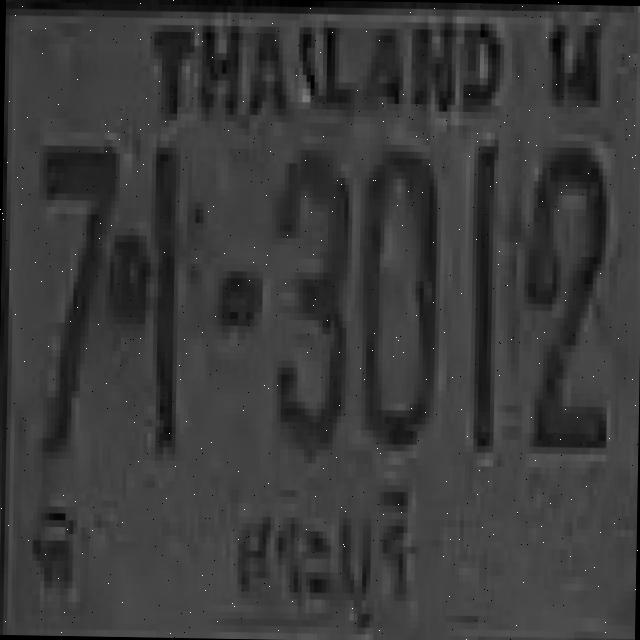0: (356, 144, 438, 445)
1: (467, 143, 496, 450)
2: (519, 140, 609, 448)
3: (268, 146, 350, 447)
7: (34, 138, 116, 452)
SaraBuri: (216, 479, 425, 633)
